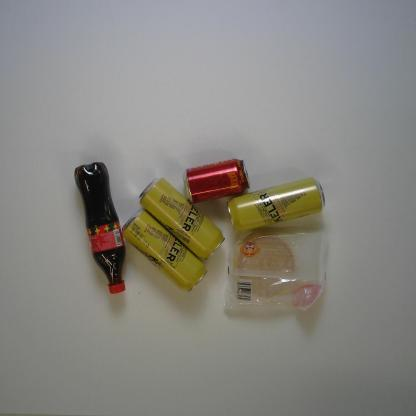Alcohol: (121, 208, 209, 294), (138, 177, 226, 261), (226, 176, 326, 232)
Dessert: (221, 228, 332, 314)
Drink: (74, 162, 126, 296), (182, 158, 250, 204)
